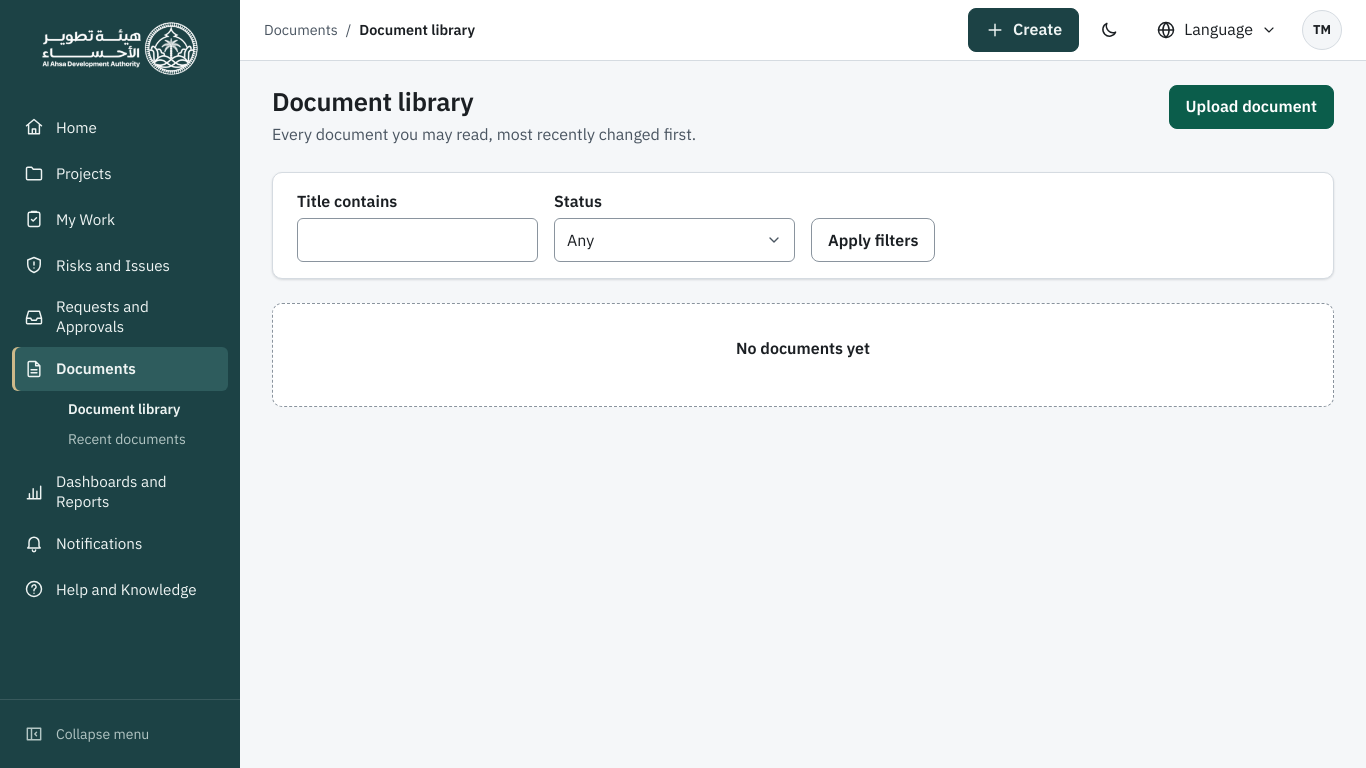
Test: MOD-050 Upload Document › without access to the catalogues the form says why and cannot be sent
Click the button "Upload document".
click(1251, 107)  # box [1169,85,1334,129]
(page scrolled)
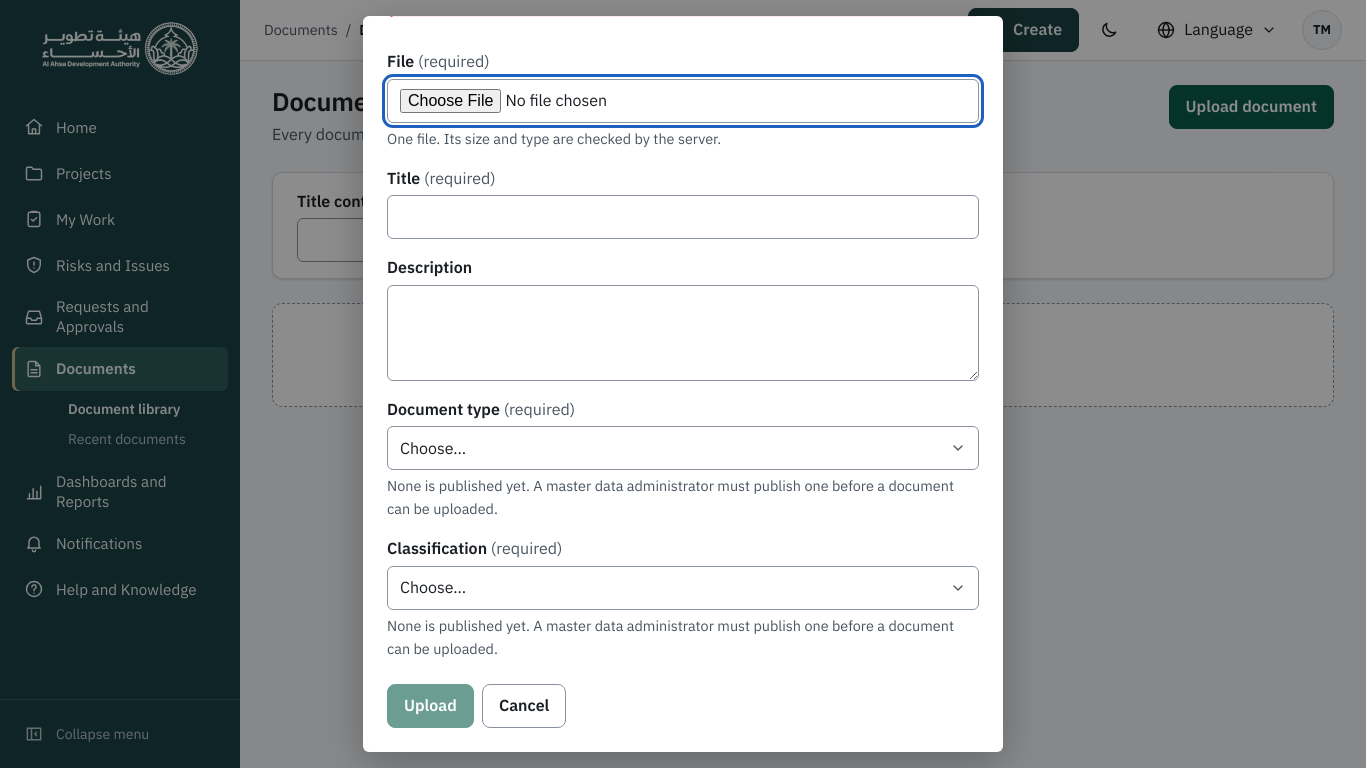
Check: the button "Upload" is disabled, box [387,684,474,728]
